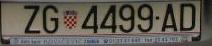.: (155, 15, 160, 21)
4: (100, 4, 118, 34), (81, 5, 99, 33)
9: (136, 3, 153, 32), (119, 3, 134, 34)
A: (161, 3, 177, 33)
D: (180, 3, 197, 32)
G: (43, 5, 60, 34)
Z: (23, 5, 40, 34)
